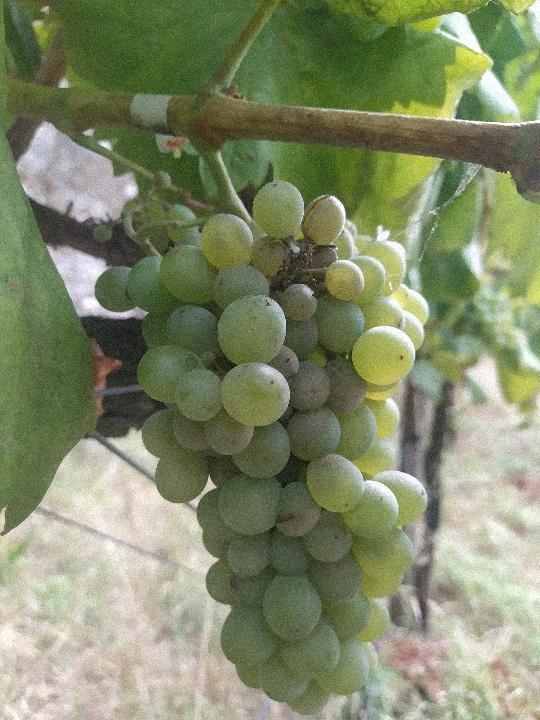grape: (92, 171, 437, 717)
